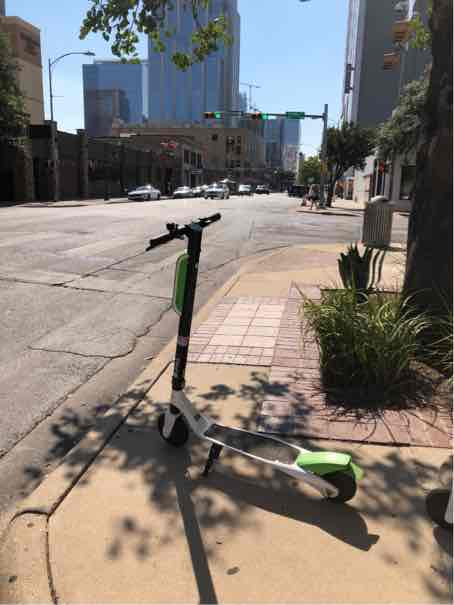scooter: (135, 202, 363, 510)
